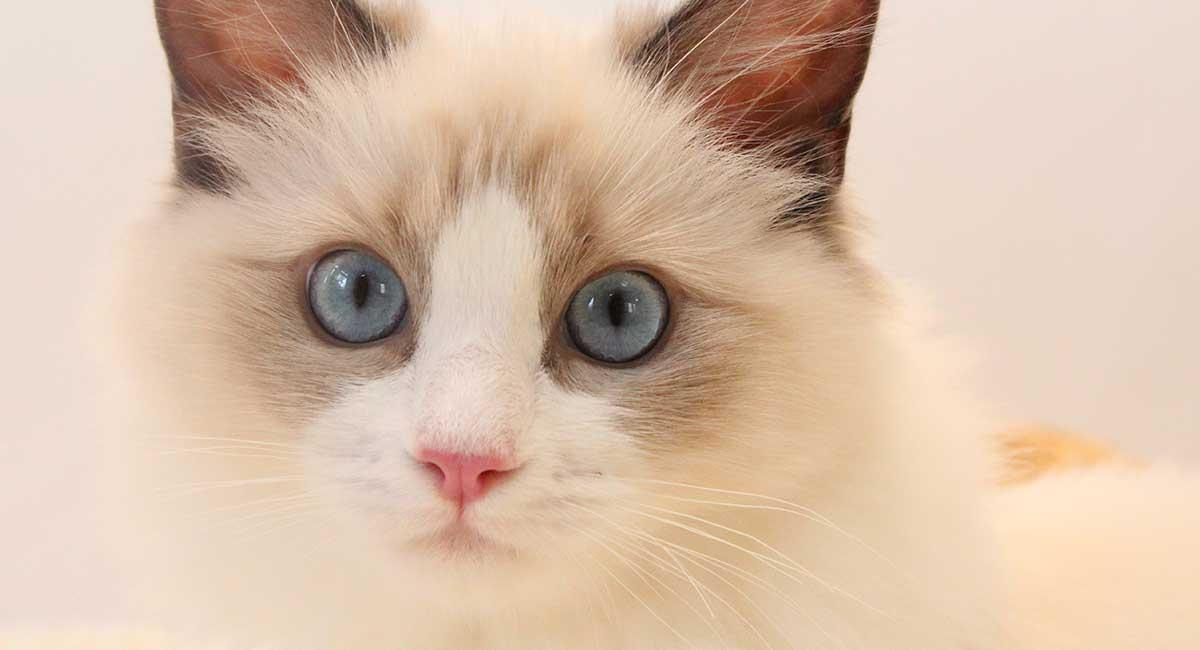ragdoll: (146, 1, 886, 650)
